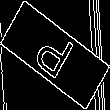P_SW: (31, 24, 79, 86)
